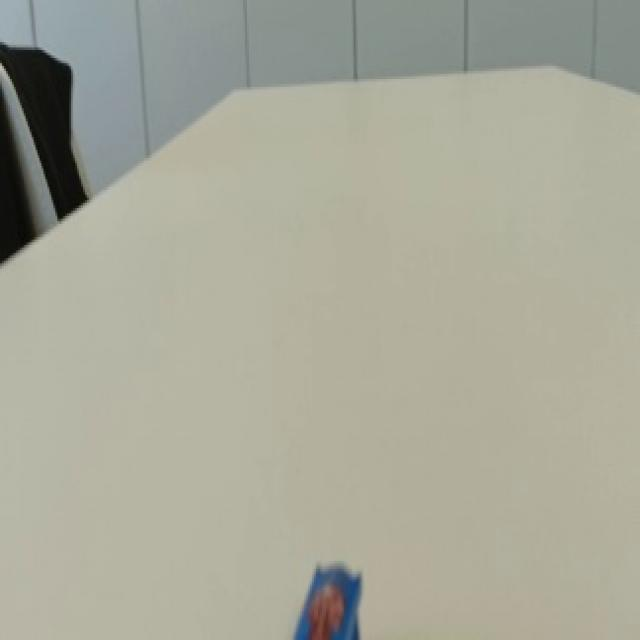1_NanoBug_Azul: (290, 544, 370, 640)
